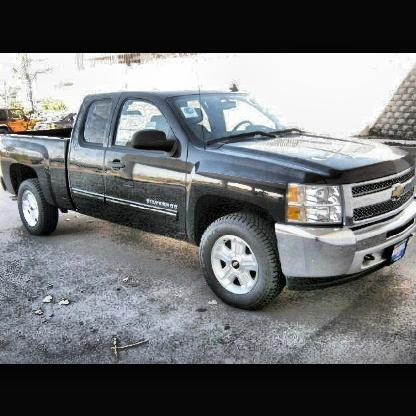Chevrolet Silverado 1500 Extended Cab 2012: (2, 91, 416, 313)
